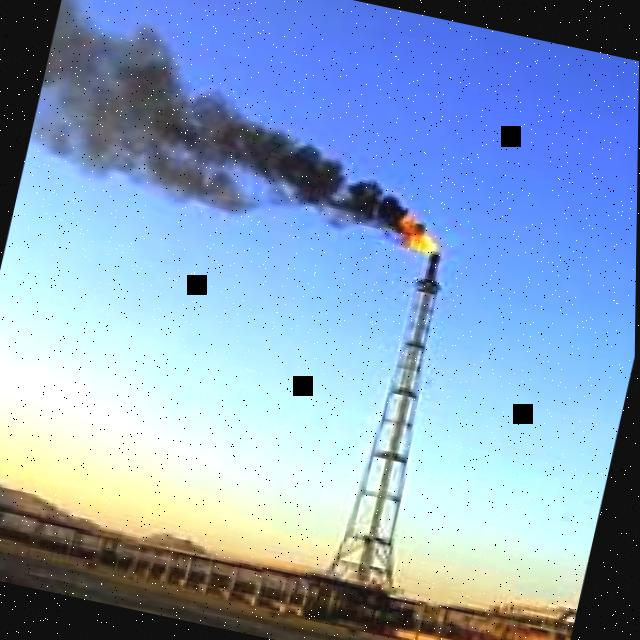fire: (399, 216, 439, 255)
smoke: (29, 0, 426, 241)
